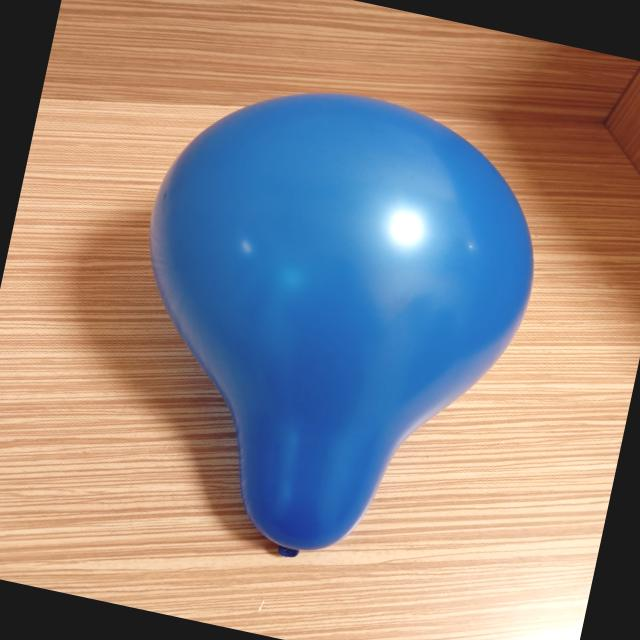balloon: (149, 93, 533, 555)
